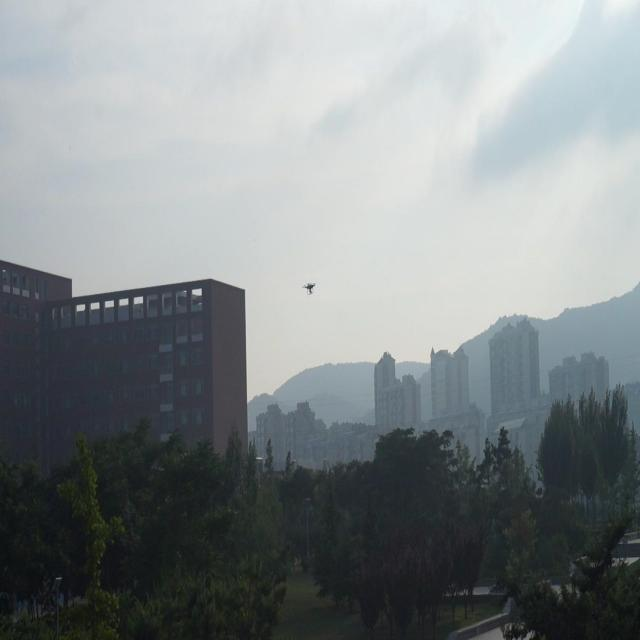UAV: (302, 282, 315, 294)
